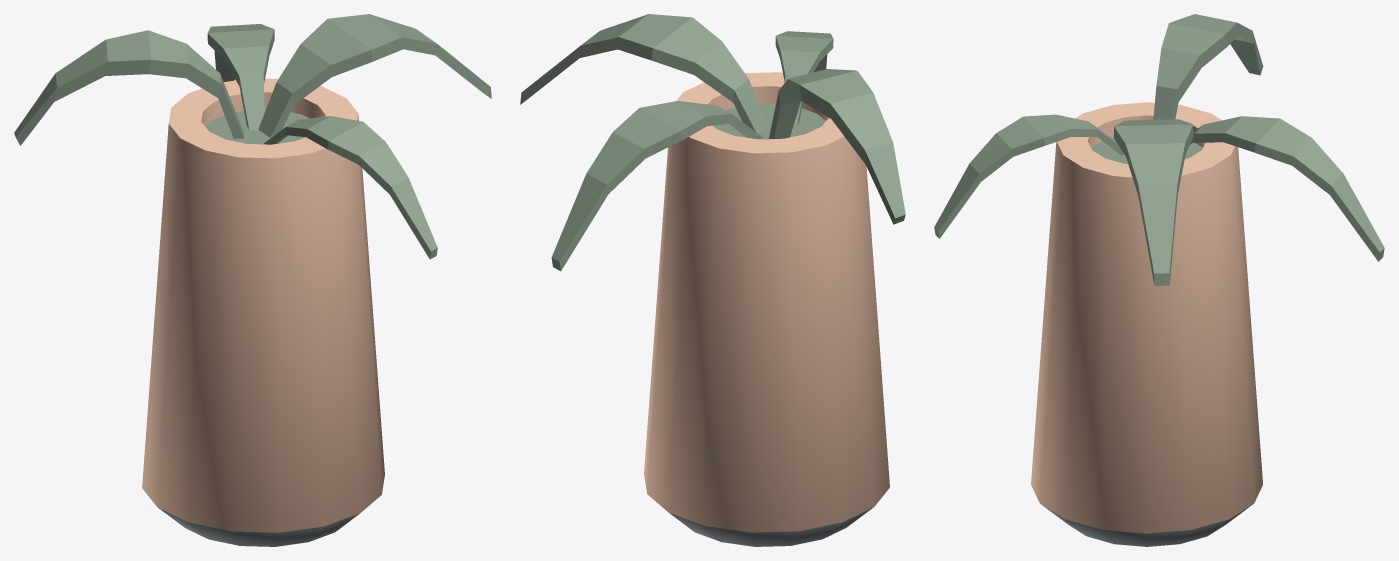
The model's file is nature_deco_plant.glb.
3 views of the same model, side by side, from view 1: azimuth 30°, elevation 25°; view 2: azimuth 150°, elevation 25°; view 3: azimuth 270°, elevation 25° (orthographic). The views are drawn at different scales.
Parts seen in each view (by area): view 1: nature_deco_plant; view 2: nature_deco_plant; view 3: nature_deco_plant.
Part boxes in pixels (bbox=[...]): nature_deco_plant: bbox=[14, 14, 491, 546]; nature_deco_plant: bbox=[520, 14, 905, 546]; nature_deco_plant: bbox=[934, 14, 1384, 546].
Bounding box in the file's own units: 0.7945 × 0.8344 × 0.7703.
Materials: 1 (1 with a texture image).
